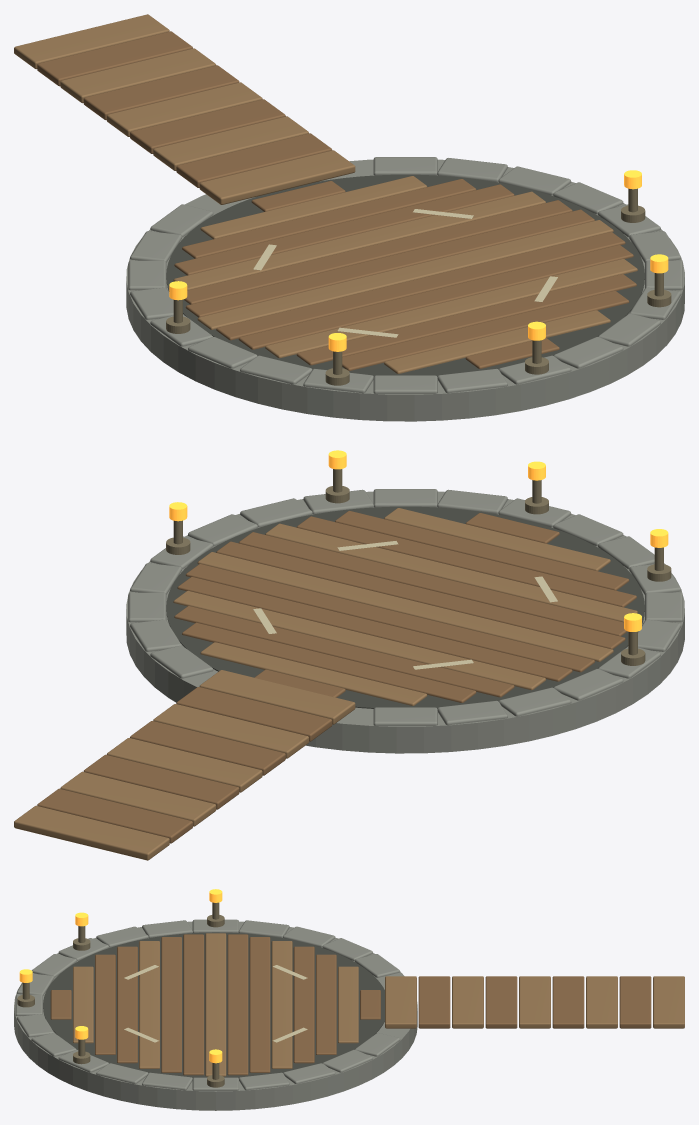
The model's file is arrival-flight-platform-v4.glb.
The picture shows the model from 3 angles, top to bottom: view 1: azimuth 30°, elevation 25°; view 2: azimuth 150°, elevation 25°; view 3: azimuth 270°, elevation 25°; orthographic projection. The views are drawn at different scales.
Parts seen in each view (by area): view 1: FlightPad_Foundation, FlightPad_DeckSubstrate, FlightPad_Timber_07, FlightPad_Timber_06, FlightPad_Timber_08, FlightPad_Timber_05, FlightPad_Timber_09, FlightPad_Timber_10, FlightPad_Timber_04, FlightPad_Timber_11, FlightPad_Timber_03, FlightPad_Timber_12 (+35 smaller); view 2: FlightPad_Foundation, FlightPad_DeckSubstrate, FlightPad_Timber_07, FlightPad_Timber_08, FlightPad_Timber_06, FlightPad_Timber_09, FlightPad_Timber_05, FlightPad_Timber_10, FlightPad_Timber_04, FlightPad_Timber_11, FlightPad_Timber_03, FlightPad_Timber_12 (+35 smaller); view 3: FlightPad_Foundation, FlightPad_DeckSubstrate, FlightPad_Timber_08, FlightPad_Timber_06, FlightPad_Timber_09, FlightPad_Timber_07, FlightPad_Timber_05, FlightPad_Timber_10, FlightPad_Timber_04, FlightPad_Timber_11, FlightPad_Timber_03, FlightPad_Timber_02 (+35 smaller).
Part boxes in pixels (x1,y1,x2,y2): FlightPad_Foundation: (126,159,684,421); FlightPad_DeckSubstrate: (166,174,644,376); FlightPad_Timber_07: (197,220,613,329); FlightPad_Timber_06: (216,232,625,340); FlightPad_Timber_08: (185,209,594,317); FlightPad_Timber_05: (238,245,633,349); FlightPad_Timber_09: (183,200,572,304); FlightPad_Timber_10: (173,191,545,290); FlightPad_Timber_04: (265,259,637,358); FlightPad_Timber_11: (174,184,514,275); FlightPad_Timber_03: (296,274,636,365); FlightPad_Timber_12: (182,178,476,258); FlightPad_Foundation: (126,491,684,753); FlightPad_DeckSubstrate: (166,506,644,708); FlightPad_Timber_07: (197,552,613,661); FlightPad_Timber_08: (185,564,594,672); FlightPad_Timber_06: (216,541,625,649); FlightPad_Timber_09: (177,577,572,681); FlightPad_Timber_05: (239,532,627,636); FlightPad_Timber_10: (173,590,545,690); FlightPad_Timber_04: (265,523,637,622); FlightPad_Timber_11: (174,606,514,697); FlightPad_Timber_03: (296,516,636,607); FlightPad_Timber_12: (182,622,476,702); FlightPad_Foundation: (14,921,417,1110); FlightPad_DeckSubstrate: (43,932,384,1077); FlightPad_Timber_08: (227,934,248,1075); FlightPad_Timber_06: (183,934,204,1075); FlightPad_Timber_09: (249,937,270,1072); FlightPad_Timber_07: (205,933,226,1076); FlightPad_Timber_05: (161,937,181,1072); FlightPad_Timber_10: (271,941,292,1068); FlightPad_Timber_04: (139,941,159,1068); FlightPad_Timber_11: (293,946,314,1063); FlightPad_Timber_03: (117,946,137,1063); FlightPad_Timber_02: (95,954,115,1054).
Bounding box in the file's own units: 5.3 × 0.775 × 8.81.
